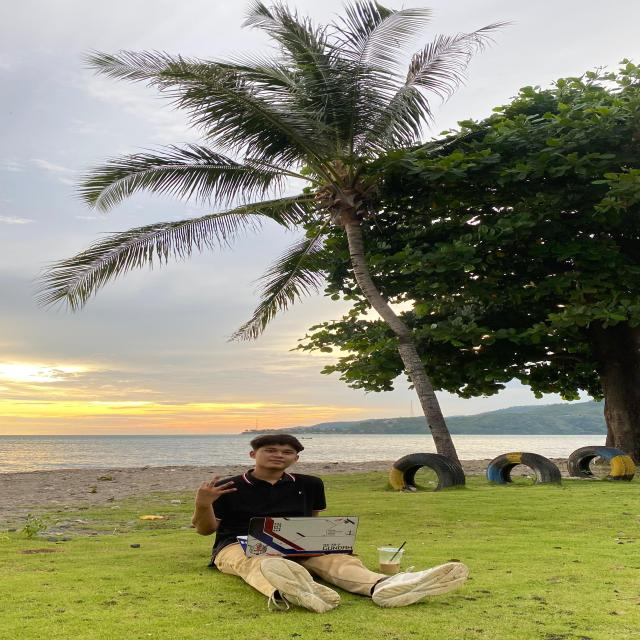nohelmet: (240, 428, 316, 482)
